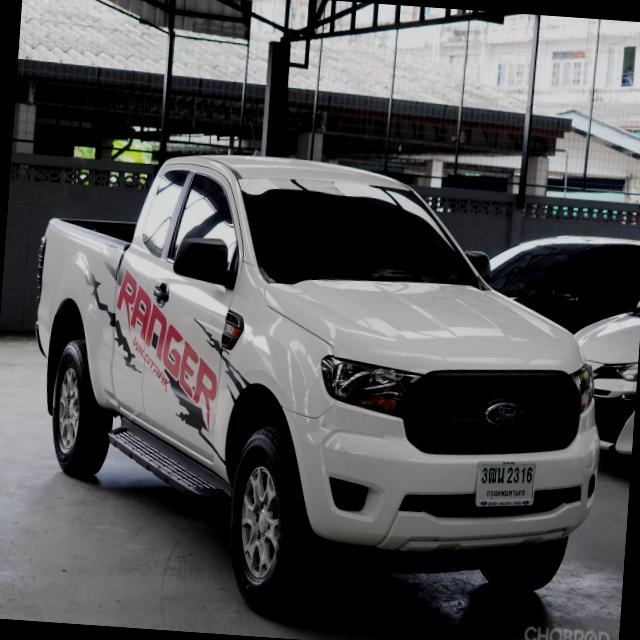license_plate: (472, 456, 538, 513)
